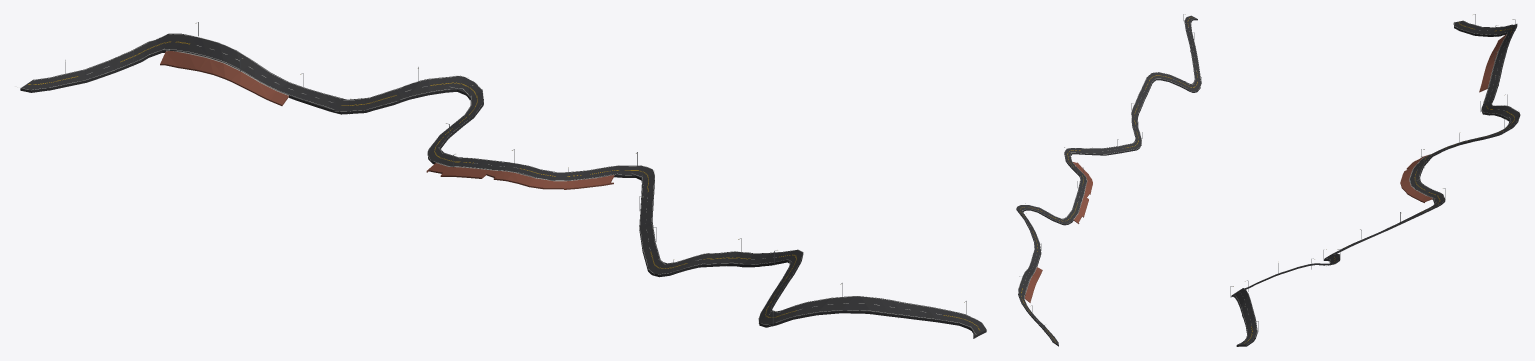
The picture shows the model from 3 angles, left to right: view 1: azimuth 30°, elevation 25°; view 2: azimuth 150°, elevation 25°; view 3: azimuth 330°, elevation 25°; orthographic projection. The views are drawn at different scales.
Bounding box in the file's own units: 194 × 74.53 × 587.
